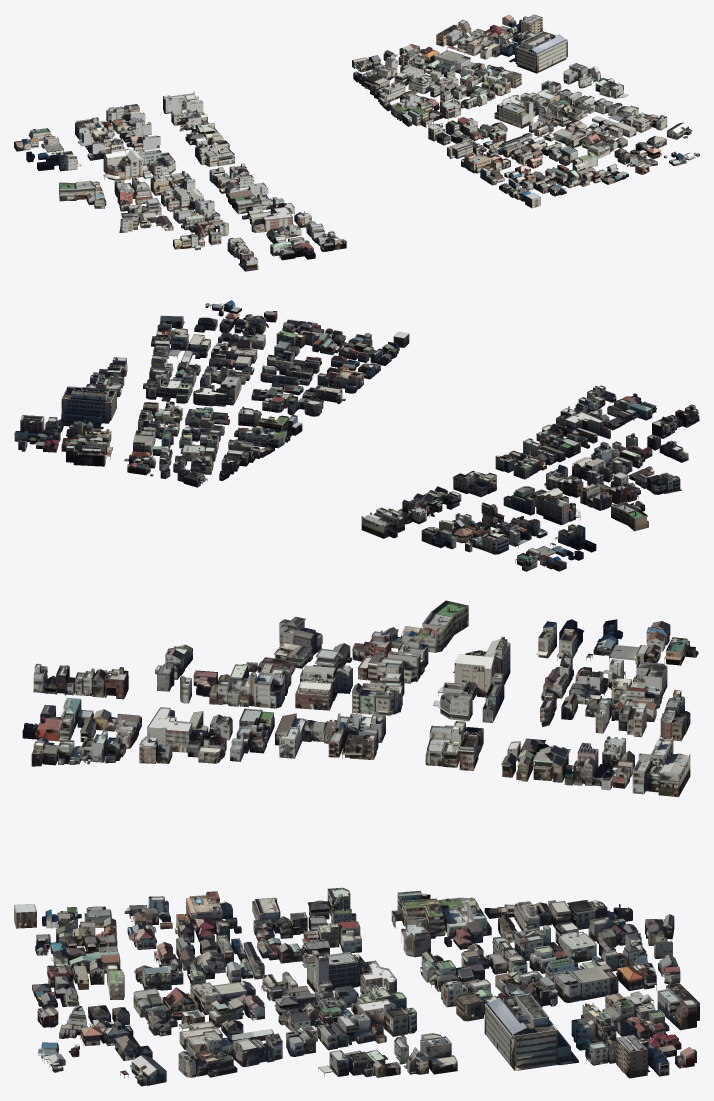
The model's file is station-4-1-packed.glb.
3 views of the same model, one above another, from view 1: azimuth 30°, elevation 25°; view 2: azimuth 150°, elevation 25°; view 3: azimuth 270°, elevation 25° (orthographic). The views are drawn at different scales.
Size of the model in its own units: 569 by 27.1 by 356.
23 materials, 22 textured.
